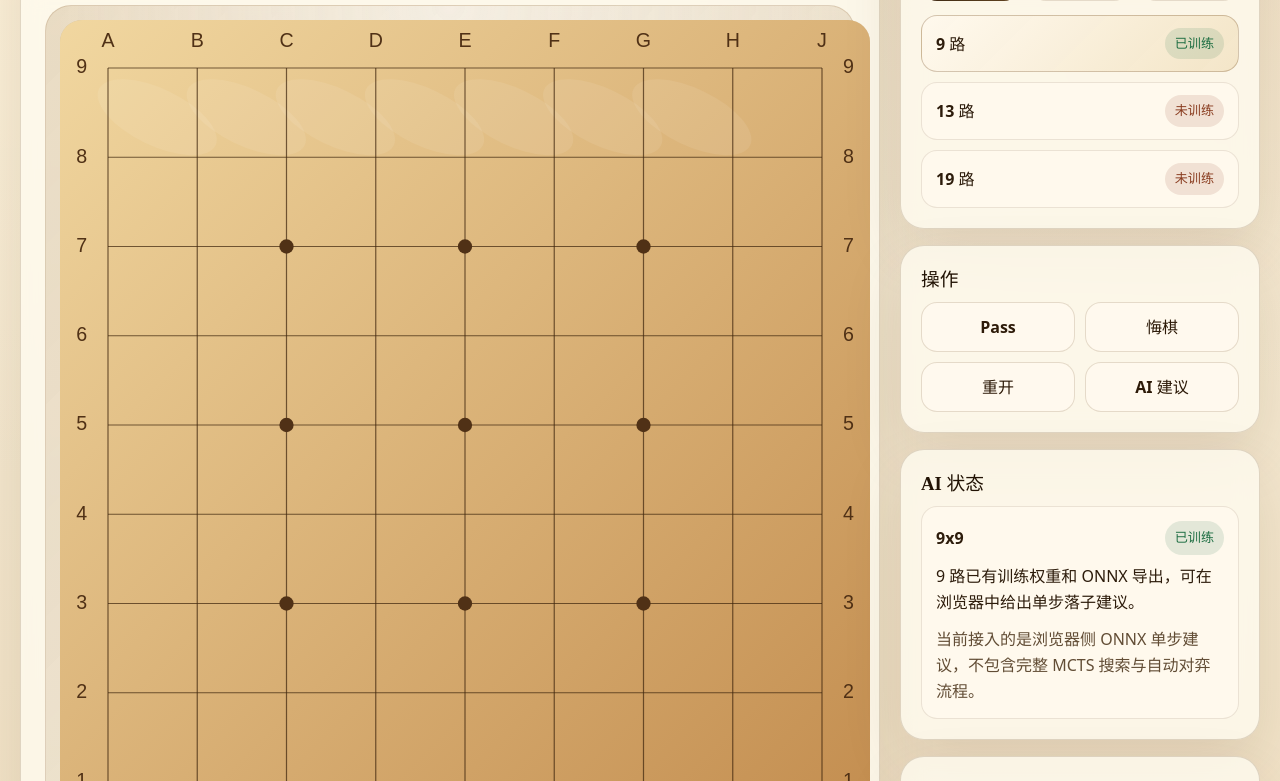
AI request lifetime › discards a delayed model load after 重开
(page scrolled)
Click the button "AI 建议" at (1162, 387), box 1085,362 -> 1239,412
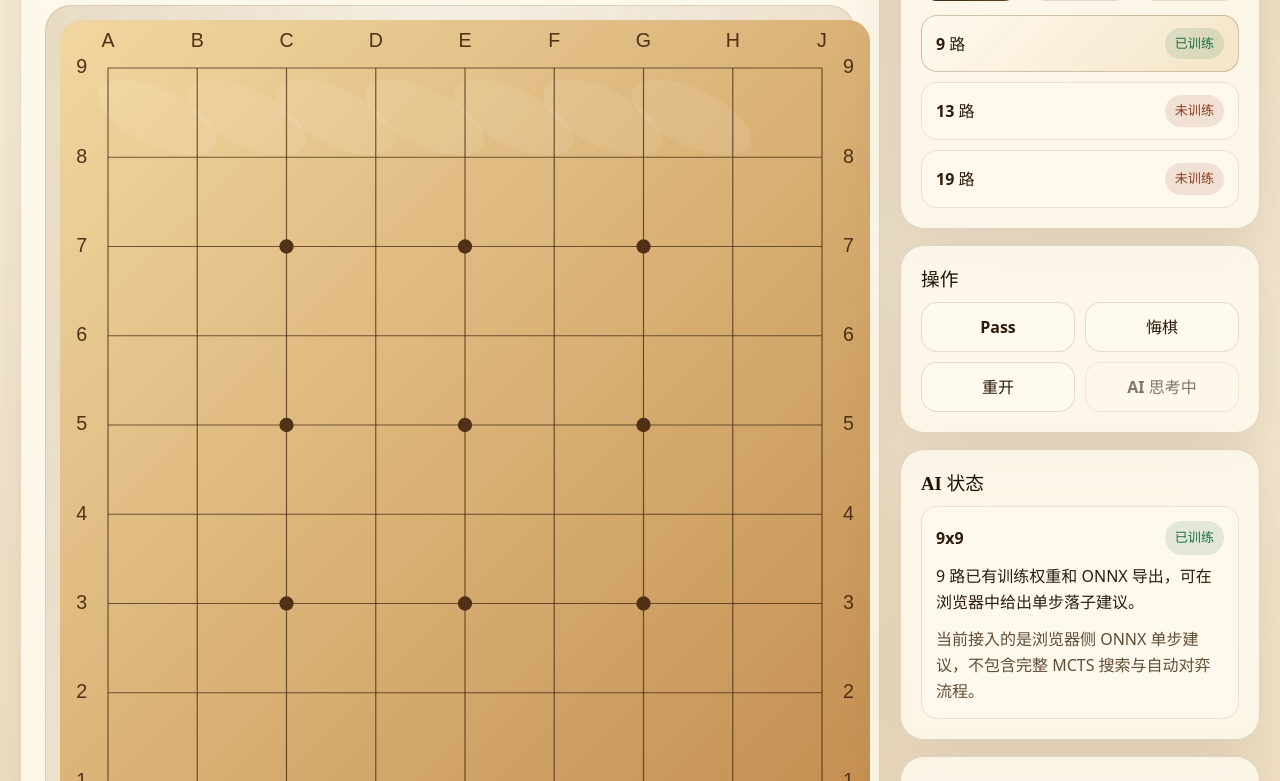
Click the button "重开" at (998, 387), box 921,362 -> 1075,412
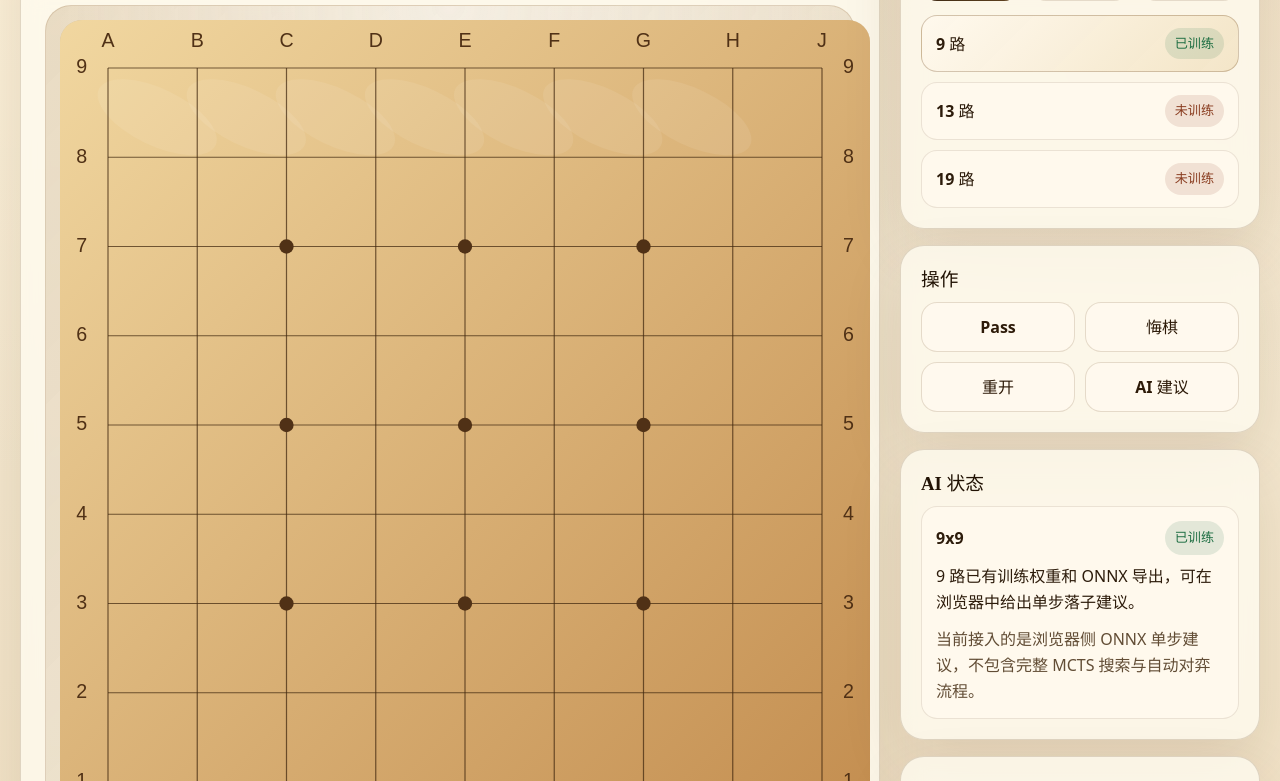
Check: the button "AI 建议" is enabled, box 1085,362 -> 1239,412
